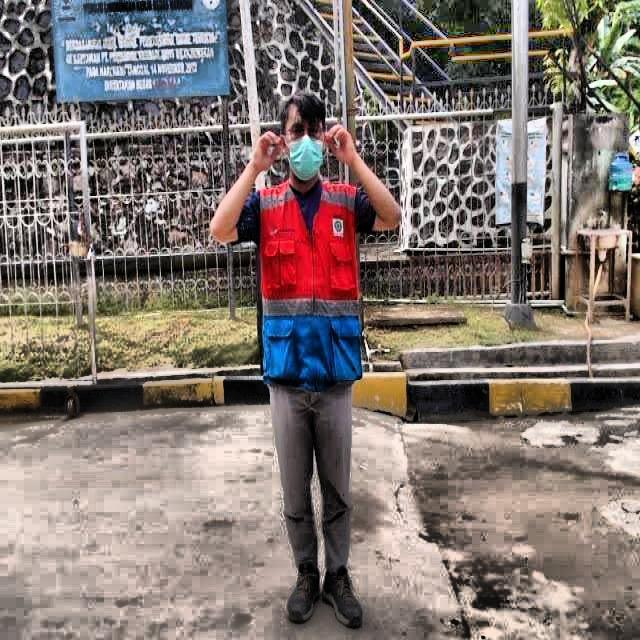safety_jacket: (256, 181, 364, 390)
